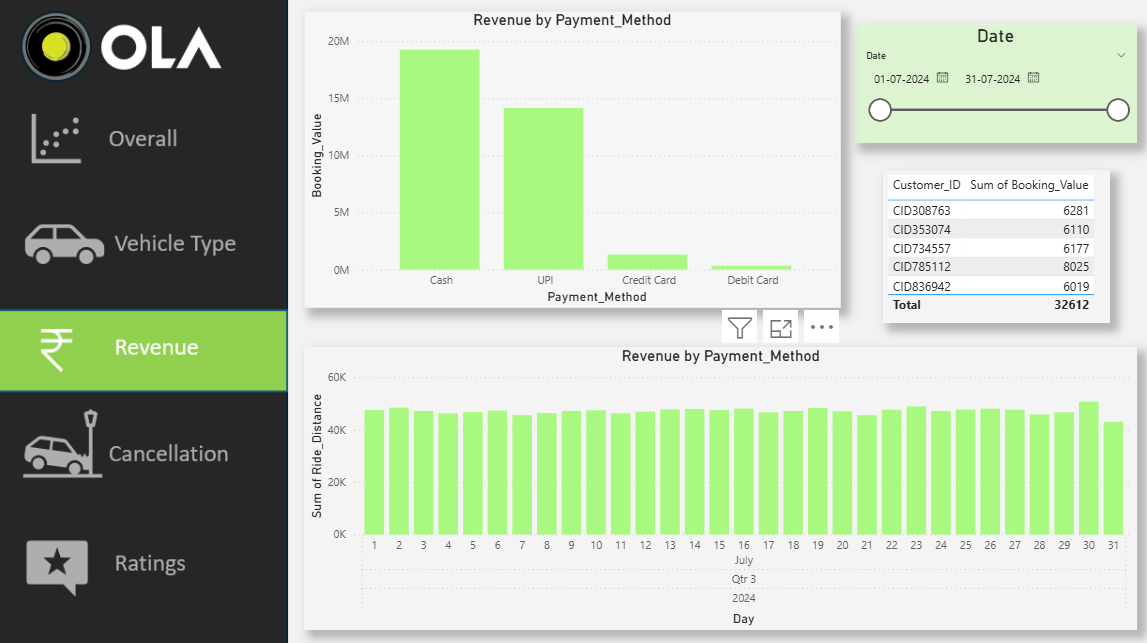

Layout of this report page (visuals, bound fields, positions):
{"tool":"powerbi","page":{"name":"Revenue","canvas":[1280,720],"ordinal":2},"visuals":[{"type":"columnChart","title":"Revenue by Payment_Method","fields":{"Category":["July.Payment_Method"],"Y":["Sum(July.Booking_Value)"]},"box":[340,14,596,330],"z":0},{"type":"columnChart","title":"Revenue by Payment_Method","fields":{"Y":["Sum(July.Ride_Distance)"],"Category":["July.Date.Variation.Date Hierarchy.Year","July.Date.Variation.Date Hierarchy.Quarter","July.Date.Variation.Date Hierarchy.Month","July.Date.Variation.Date Hierarchy.Day"]},"box":[340,386,926,314],"z":1000},{"type":"slicer","title":"Date","fields":{"Values":["July.Date"]},"box":[952,28,314,132],"z":2000},{"type":"tableEx","fields":{"Values":["July.Customer_ID","Sum(July.Booking_Value)"]},"box":[984,190,252,170],"z":3000}]}

Visuals, with their boxes in screenshot pixels (x1, y1, x2, y2):
"Revenue by Payment_Method" columnChart: [x1=286, y1=4, x2=830, y2=305]
"Revenue by Payment_Method" columnChart: [x1=286, y1=343, x2=1131, y2=629]
"Date" slicer: [x1=844, y1=17, x2=1131, y2=137]
tableEx - July.Customer_ID x Sum(July.Booking_Value): [x1=873, y1=164, x2=1103, y2=319]
